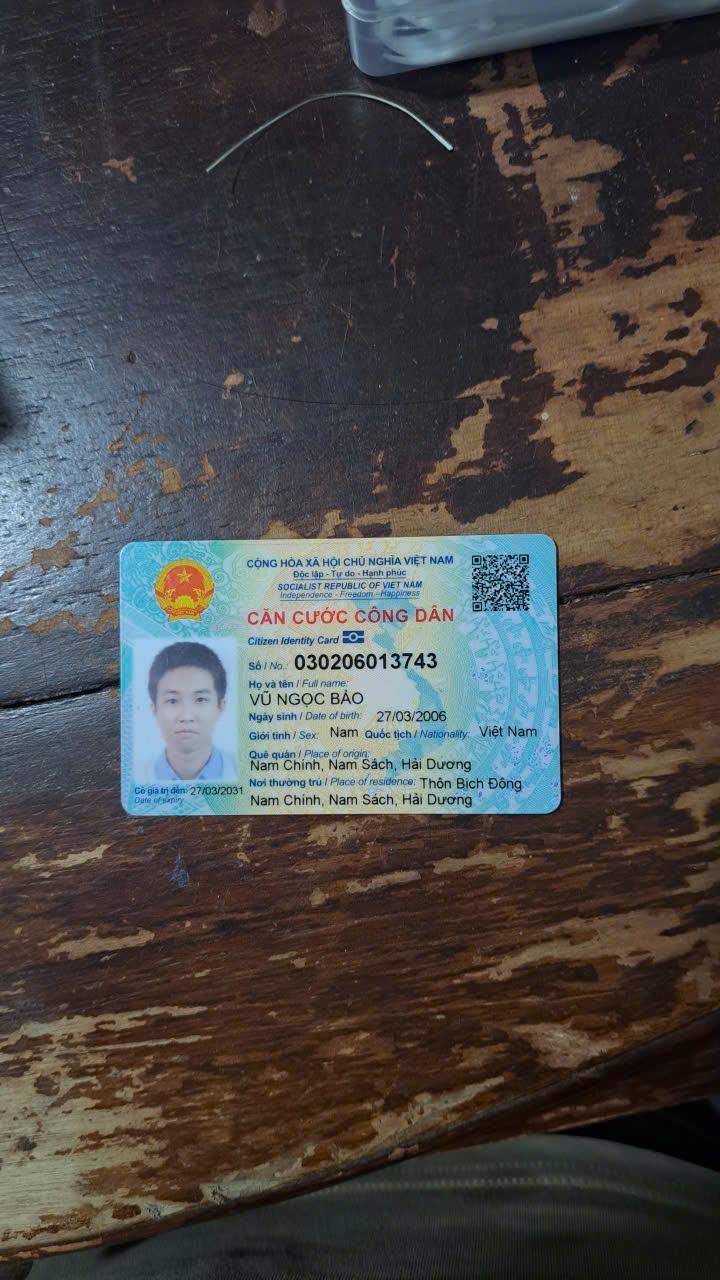cccd: (110, 530, 568, 823)
